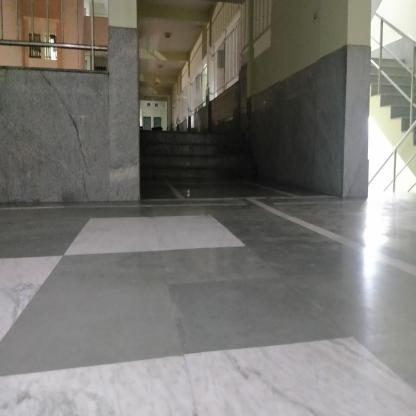stairs: (143, 132, 247, 180)
